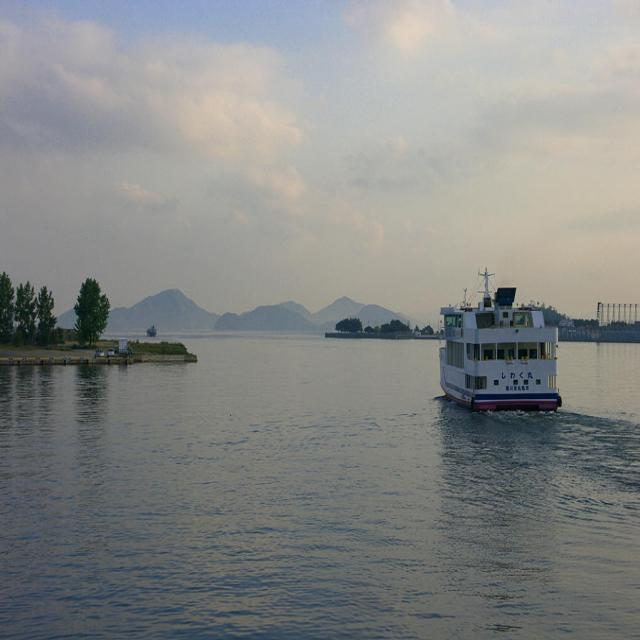passenger ship: (422, 276, 561, 411)
